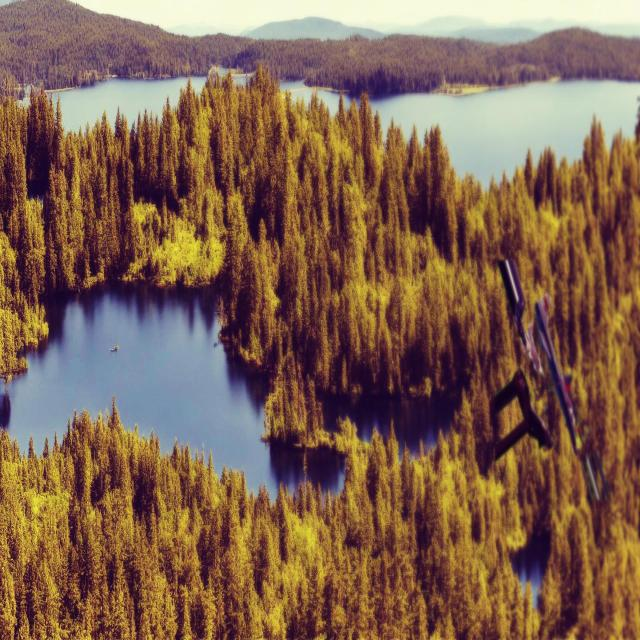airplane: (535, 292, 582, 454), (489, 368, 553, 462), (497, 259, 543, 373)
